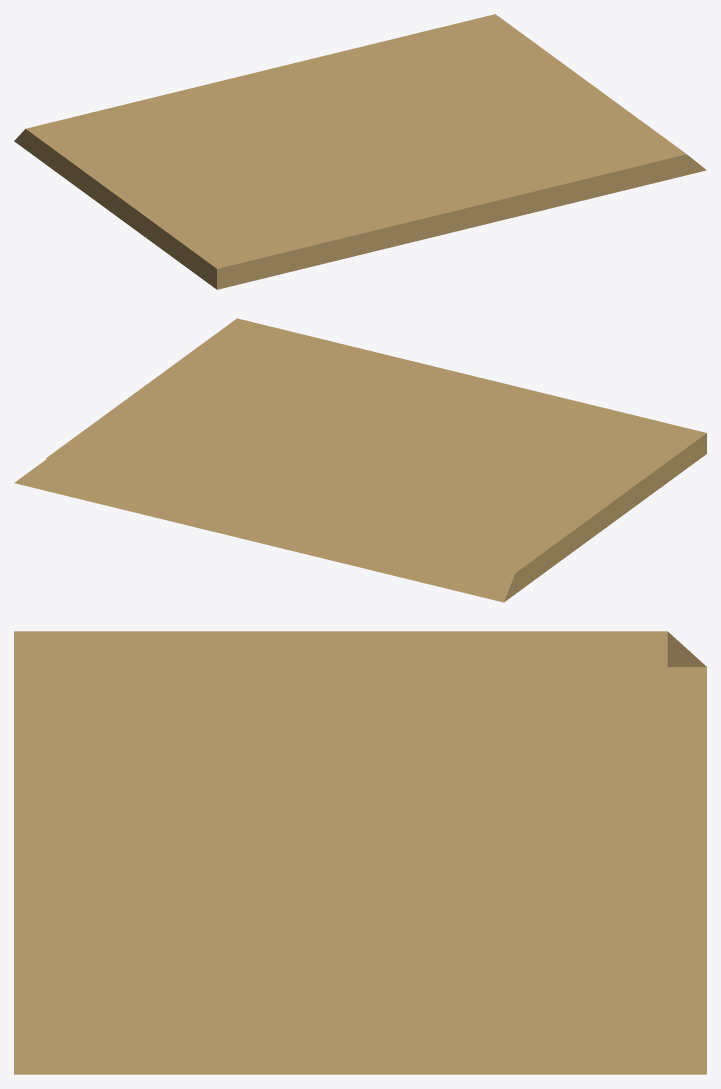
File: plane.001_material.024_0_lev1.glb
The picture shows the model from 3 angles, top to bottom: view 1: azimuth 30°, elevation 25°; view 2: azimuth 150°, elevation 25°; view 3: azimuth 270°, elevation 25°; orthographic projection. The views are drawn at different scales.
Parts seen in each view (by area): view 1: plane.001_material.024_0_lev1; view 2: plane.001_material.024_0_lev1; view 3: plane.001_material.024_0_lev1.
Part boxes in pixels (x1,y1,x2,y2): plane.001_material.024_0_lev1: (14,14,706,289); plane.001_material.024_0_lev1: (14,318,706,602); plane.001_material.024_0_lev1: (14,631,706,1074).
Bounding box in the file's own units: 576 × 23.54 × 414.
